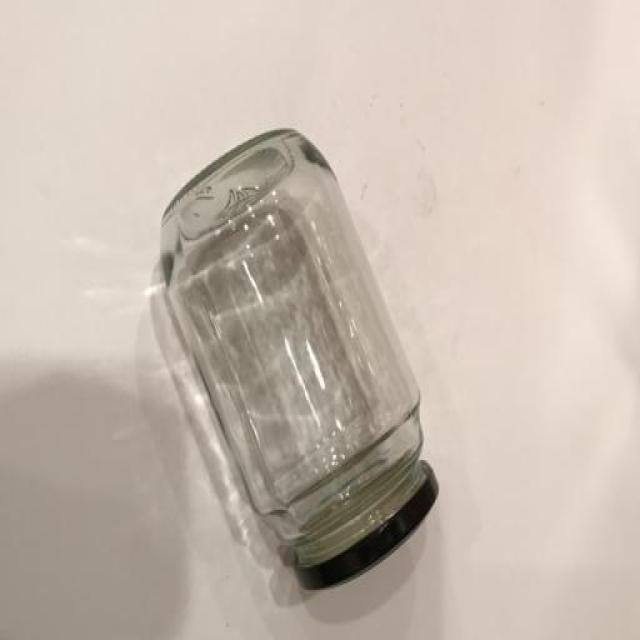glass: (158, 122, 438, 590)
